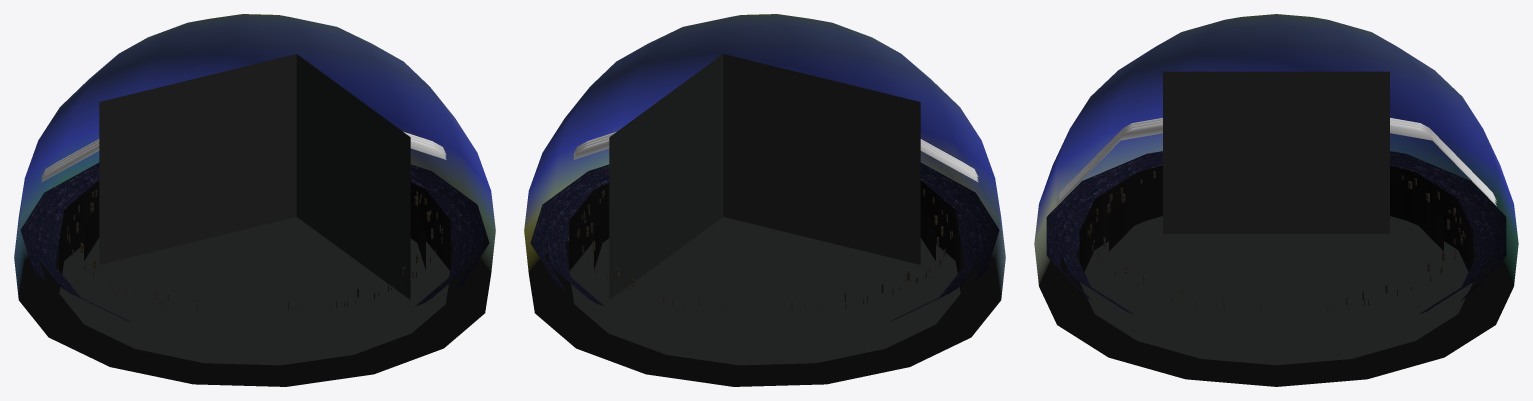
The model's file is D4_SKY.glb.
The picture shows the model from 3 angles, left to right: view 1: azimuth 30°, elevation 25°; view 2: azimuth 150°, elevation 25°; view 3: azimuth 270°, elevation 25°; orthographic projection.
Visible parts, largest first — view 1: IN_RECT, obj2, BILL_IN, YAKEI2, YAKEI1, BILL_IN2, obj3, BILL_0, BILL_1; view 2: IN_RECT, obj2, BILL_IN, YAKEI2, YAKEI1, BILL_IN2, obj3, BILL_0; view 3: BILL_IN, obj2, IN_RECT, YAKEI2, YAKEI1, BILL_IN2, obj3, obj5, obj1, BILL_0, BILL_1.
Part boxes in pixels (x1=…): IN_RECT: x1=99, y1=54, x2=410, y2=299; obj2: x1=14, y1=14, x2=495, y2=386; BILL_IN: x1=59, y1=180, x2=450, y2=365; YAKEI2: x1=34, y1=175, x2=476, y2=321; YAKEI1: x1=20, y1=162, x2=489, y2=291; BILL_IN2: x1=84, y1=204, x2=425, y2=269; obj3: x1=41, y1=139, x2=446, y2=182; BILL_0: x1=67, y1=189, x2=442, y2=313; BILL_1: x1=76, y1=195, x2=433, y2=310; IN_RECT: x1=609, y1=54, x2=920, y2=299; obj2: x1=524, y1=14, x2=1005, y2=386; BILL_IN: x1=569, y1=180, x2=960, y2=365; YAKEI2: x1=543, y1=175, x2=985, y2=321; YAKEI1: x1=530, y1=162, x2=999, y2=291; BILL_IN2: x1=594, y1=204, x2=935, y2=269; obj3: x1=573, y1=139, x2=978, y2=182; BILL_0: x1=577, y1=189, x2=952, y2=314; BILL_IN: x1=1079, y1=165, x2=1473, y2=365; obj2: x1=1034, y1=14, x2=1518, y2=386; IN_RECT: x1=1163, y1=71, x2=1389, y2=233; YAKEI2: x1=1054, y1=161, x2=1498, y2=314; YAKEI1: x1=1046, y1=151, x2=1506, y2=301; BILL_IN2: x1=1109, y1=180, x2=1443, y2=251; obj3: x1=1056, y1=123, x2=1496, y2=205; obj5: x1=1056, y1=120, x2=1496, y2=202; obj1: x1=1056, y1=118, x2=1496, y2=200; BILL_0: x1=1087, y1=171, x2=1465, y2=312; BILL_1: x1=1103, y1=173, x2=1449, y2=310.
Bounding box in the file's own units: 3199 × 1915 × 3199.
21 materials, 21 textured.
